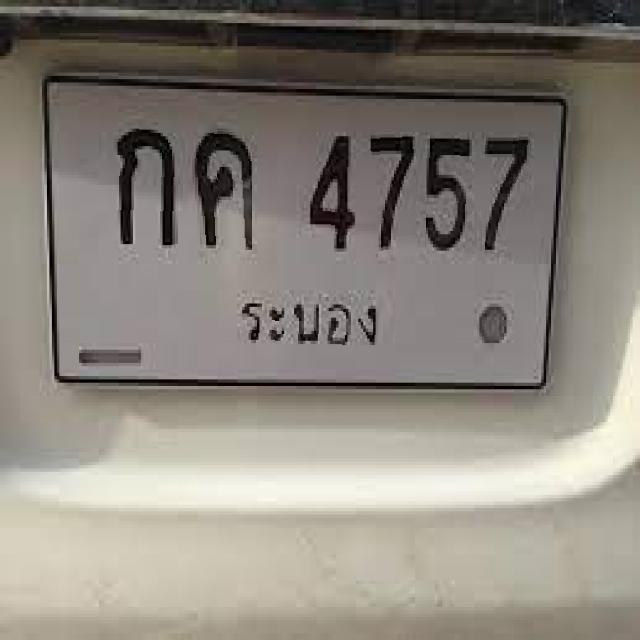4: (302, 129, 356, 254)
5: (420, 127, 473, 256)
7: (365, 125, 417, 257), (482, 128, 532, 260)
A01: (109, 120, 178, 254)
A04: (187, 125, 260, 256)
RNG: (227, 289, 387, 359)
